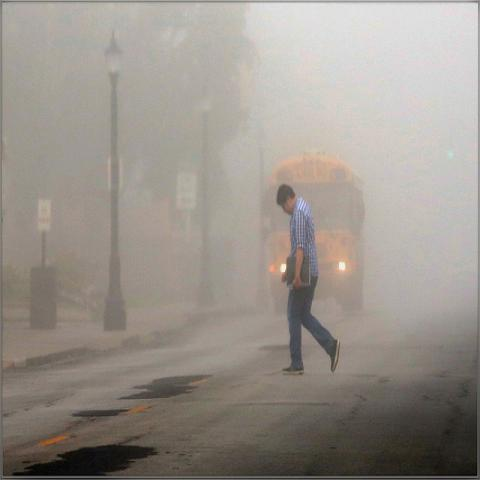bus: (264, 154, 366, 309)
